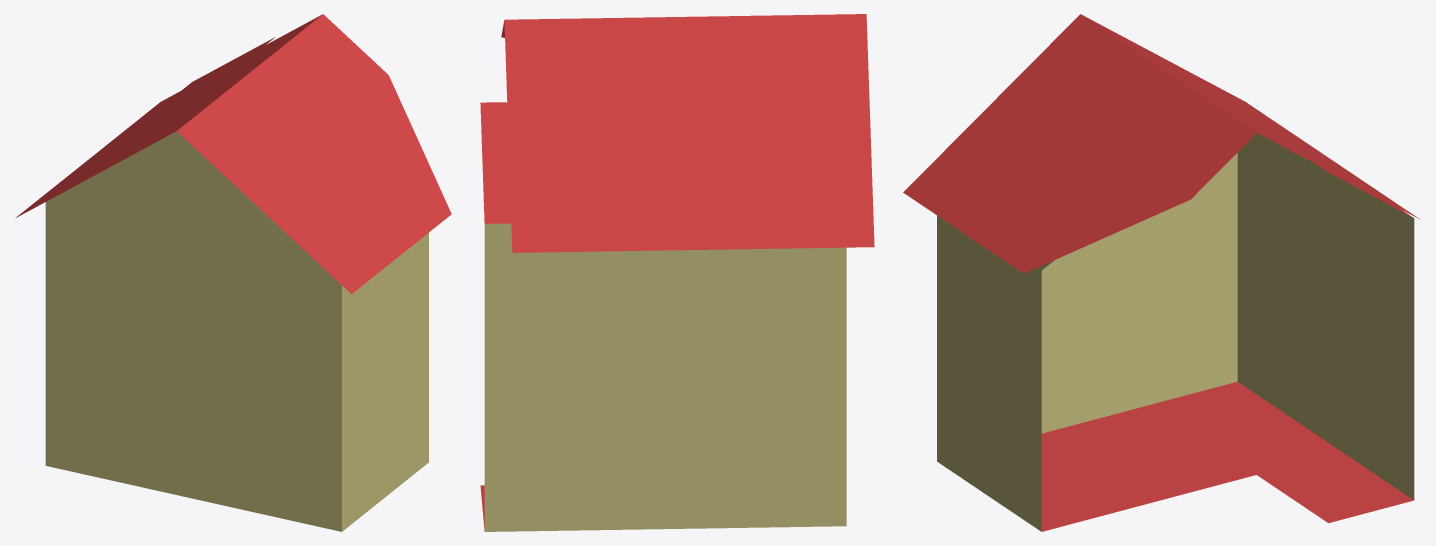
3 views of the same model, side by side, from view 1: azimuth 30°, elevation 25°; view 2: azimuth 150°, elevation 25°; view 3: azimuth 270°, elevation 25° (orthographic). The views are drawn at different scales.
Bounding box in the file's own units: 13.01 × 15.83 × 13.37.
